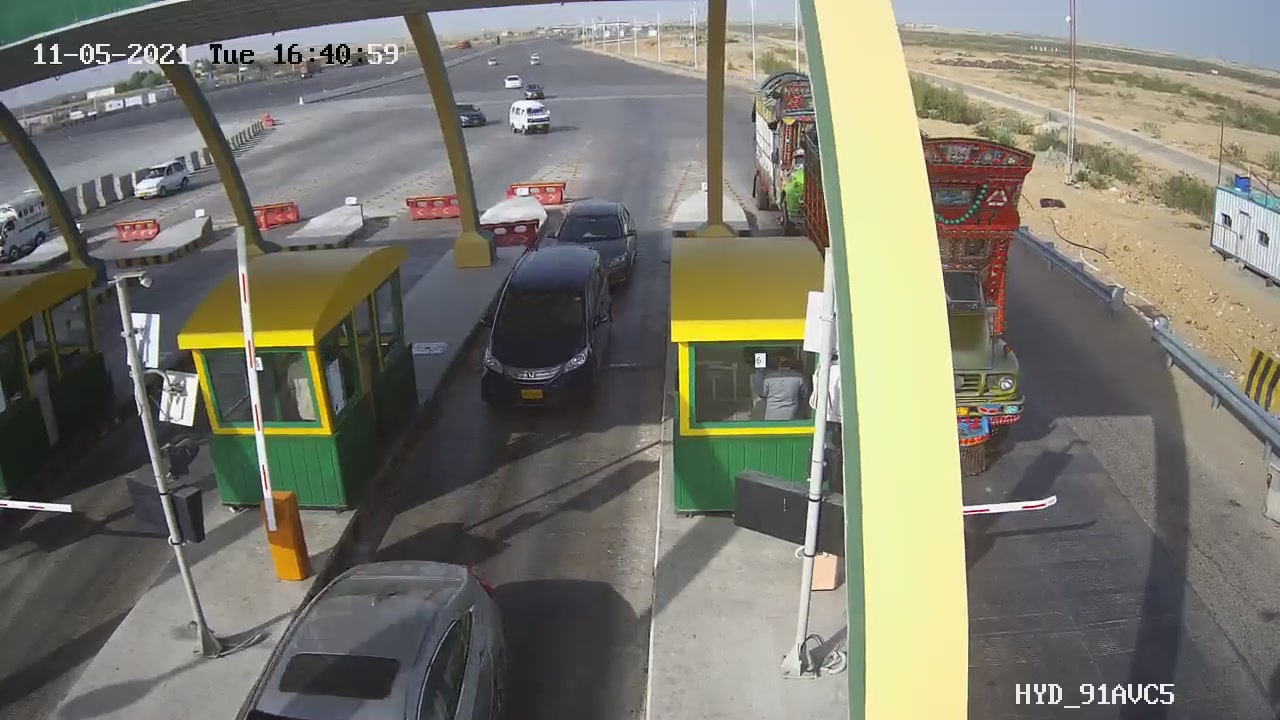F1: (466, 231, 636, 434)
